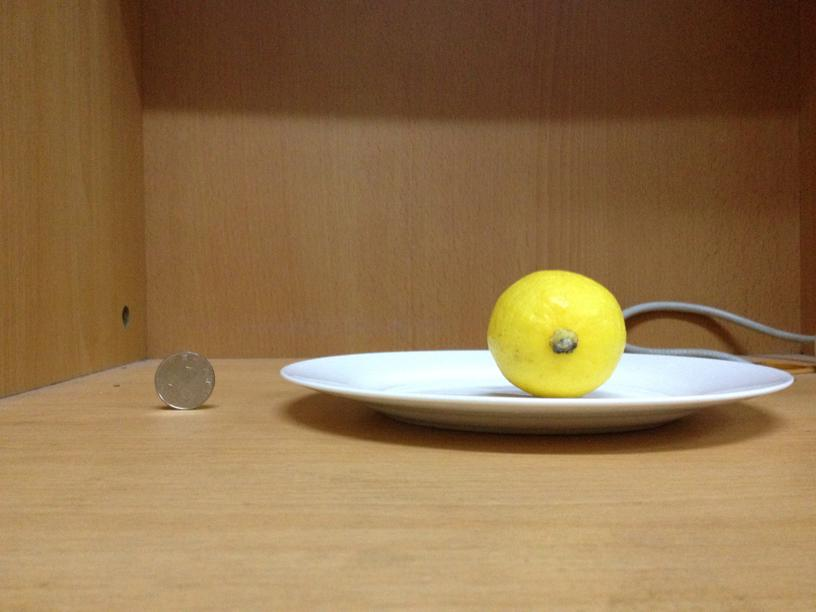coin: (155, 350, 215, 410)
lemon: (488, 268, 626, 396)
